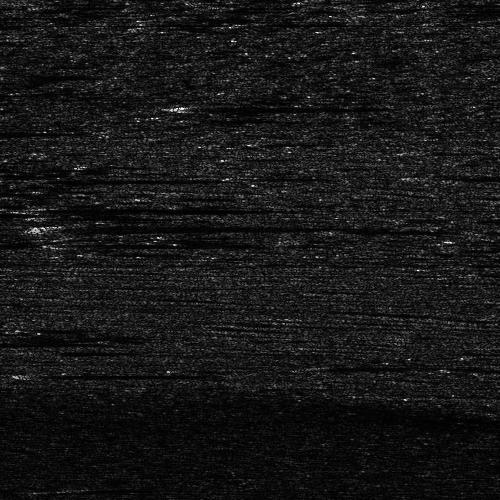object: (175, 104, 206, 107)
shadow: (0, 125, 81, 134), (190, 104, 381, 107)
